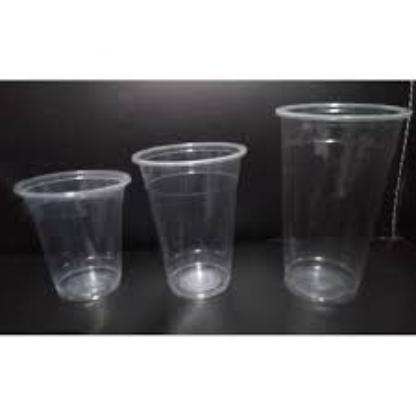Plastic Cup: (278, 104, 410, 304), (132, 142, 245, 298), (11, 170, 127, 300)
